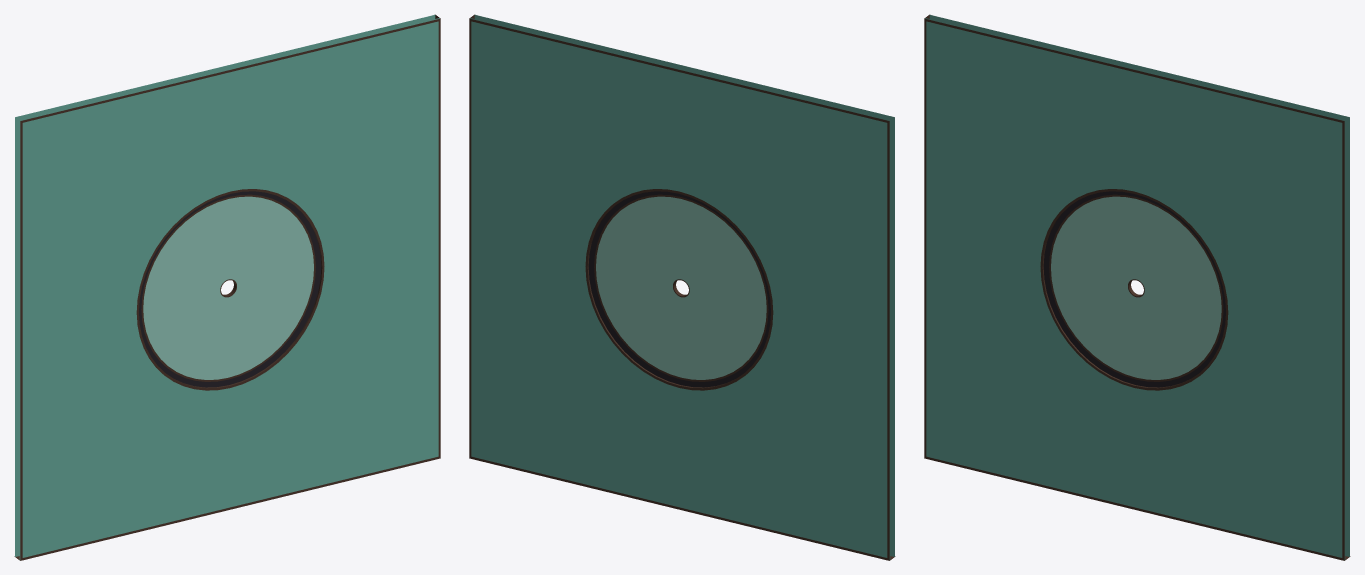
The model's file is Teal.obj.
3 views of the same model, side by side, from view 1: azimuth 30°, elevation 25°; view 2: azimuth 150°, elevation 25°; view 3: azimuth 330°, elevation 25° (orthographic).
Parts seen in each view (by area): view 1: Sleeve, Record; view 2: Sleeve, Record; view 3: Sleeve, Record.
Part boxes in pixels (left/top/right/bottom): Sleeve: left=14, top=14, right=440, bottom=560; Record: left=139, top=191, right=321, bottom=387; Sleeve: left=469, top=14, right=895, bottom=560; Record: left=588, top=191, right=770, bottom=387; Sleeve: left=924, top=14, right=1350, bottom=560; Record: left=1043, top=191, right=1225, bottom=387.
Bounding box in the file's own units: 0.188 × 0.188 × 0.0048.
